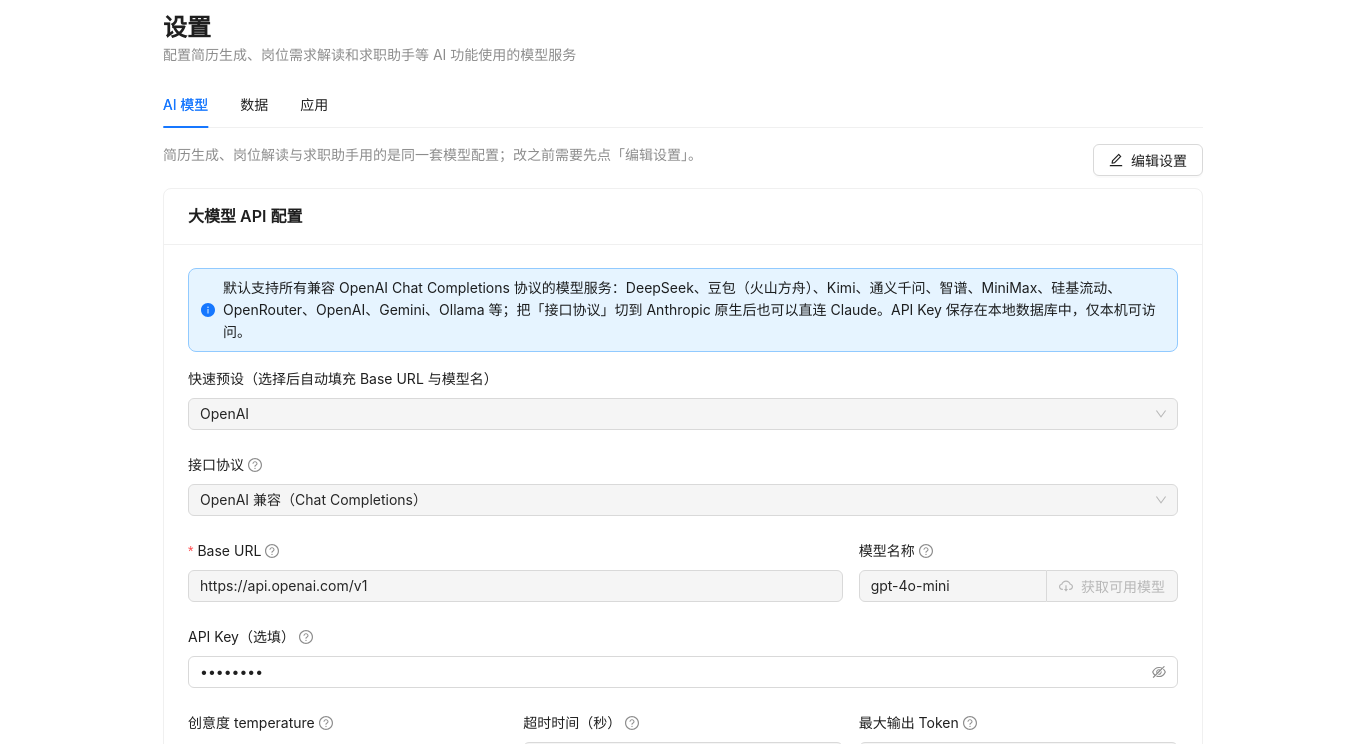
Test: SettingsPage API key reveal › keeps the key masked when the explicit reveal request fails
Expected: the password field labelled "API Key（选填）" holds "********", [200,661,1148,683]
Click the picture named "eye-invisible" at coordinates (1159, 672), box [1152,665,1166,679]
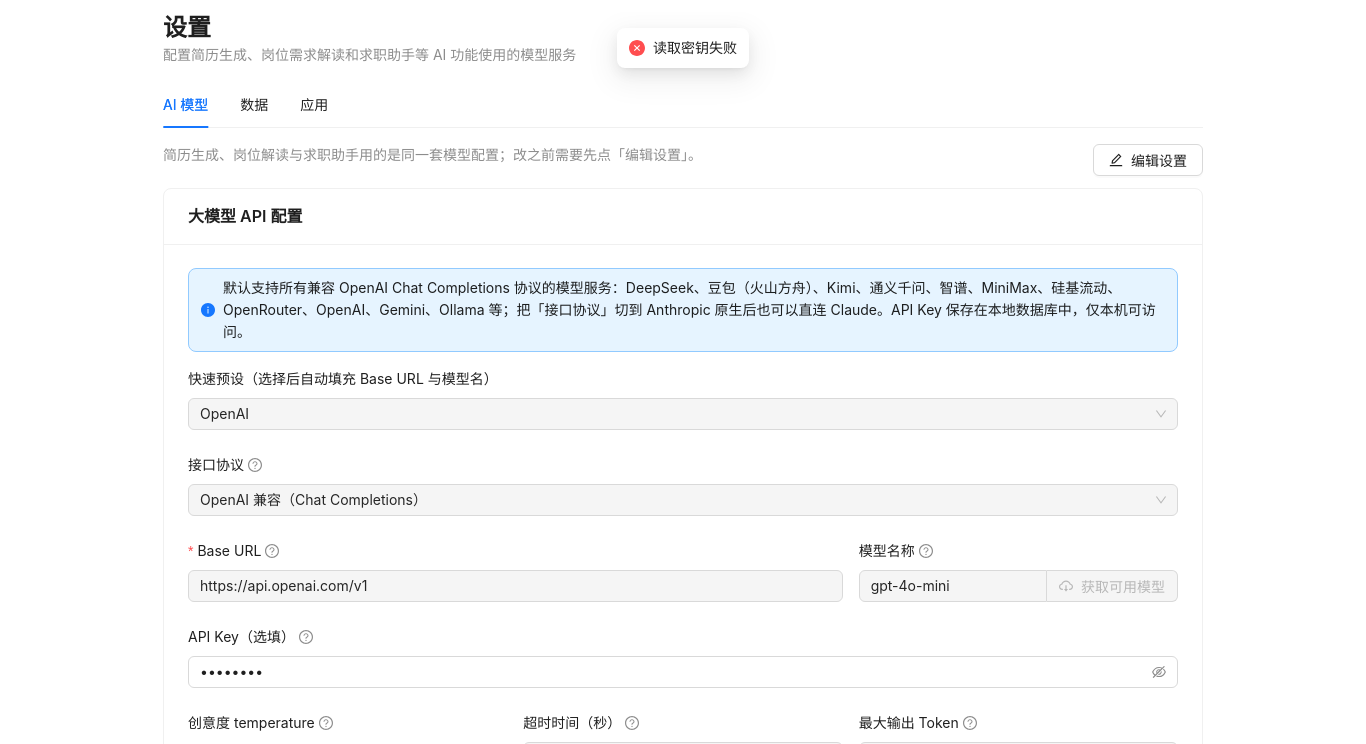
Expected: the password field labelled "API Key（选填）" holds "********", [200,661,1148,683]
Expected: the text "读取密钥失败" is shown, [653,37,737,59]
